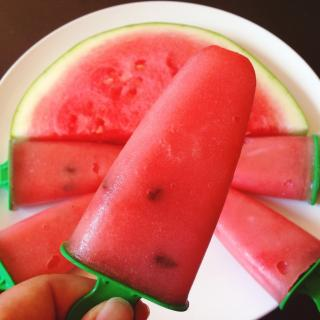Watermelon: (0, 21, 320, 306)
